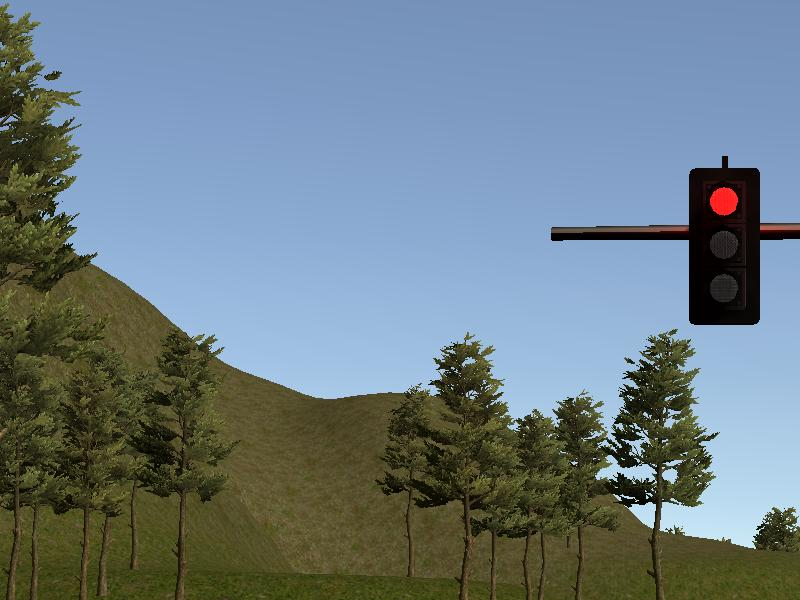Red: (690, 168, 761, 325)
